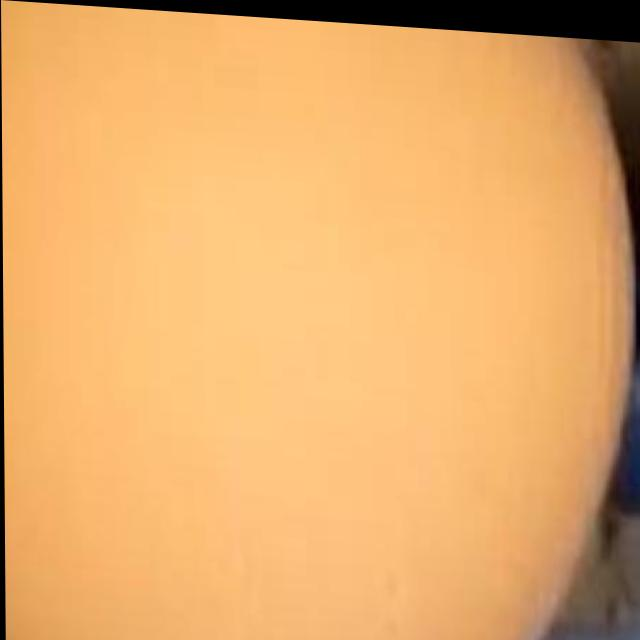fresh: (0, 0, 574, 640)
